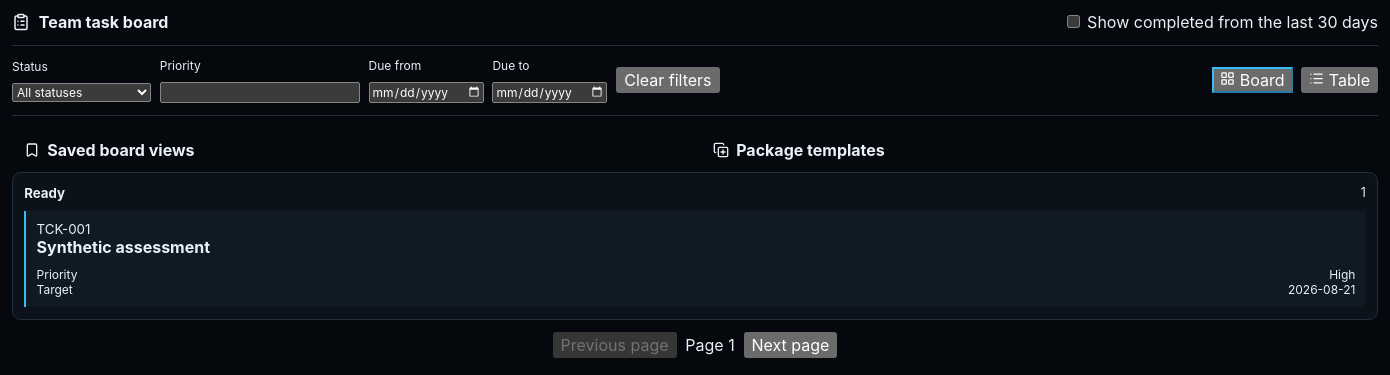
it: paging walks forward and back and returns focus to the board heading
Check: the text "Page 1" is shown, box [685,335,735,355]
Check: the button "Previous page" is disabled, box [553,332,676,358]
What coordinates should you click on to do the following:
click the button "Next page"
I would click on:
 (790, 345)
Its box is [744,332,837,358].
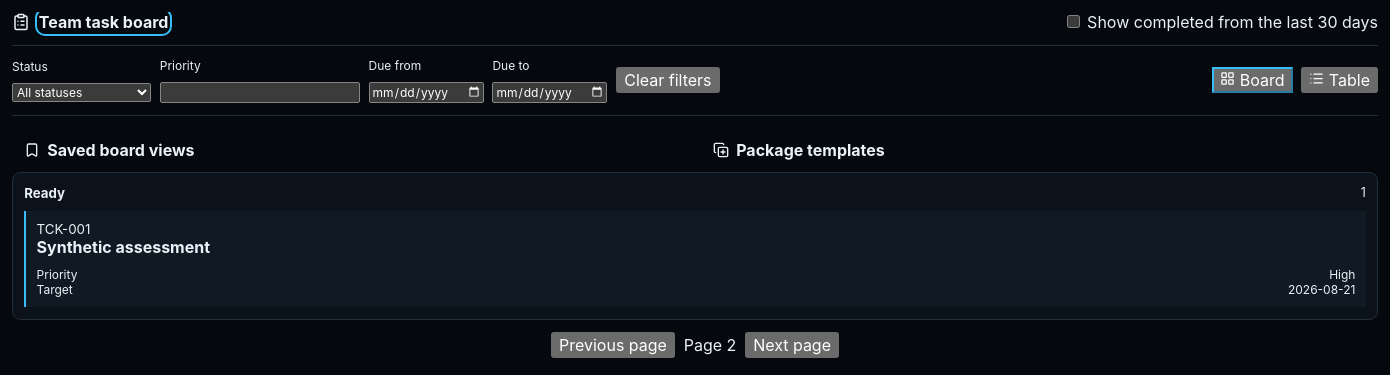
Check: the text "Page 2" is shown, box [684,335,736,355]
What coordinates should you click on to do the following:
click the button "Previous page"
I would click on:
 (613, 345)
Its box is [551,332,675,358].
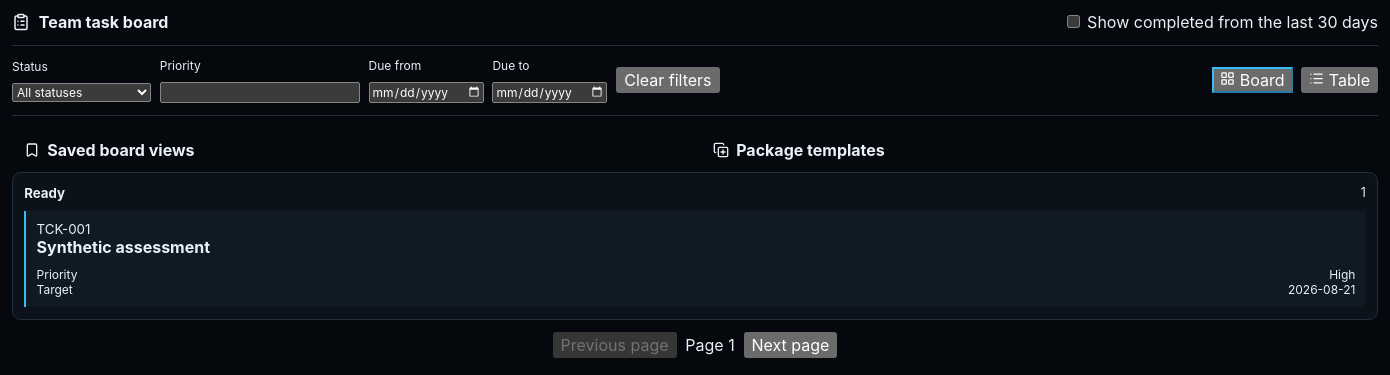
Check: the text "Page 1" is shown, box [685,335,735,355]
